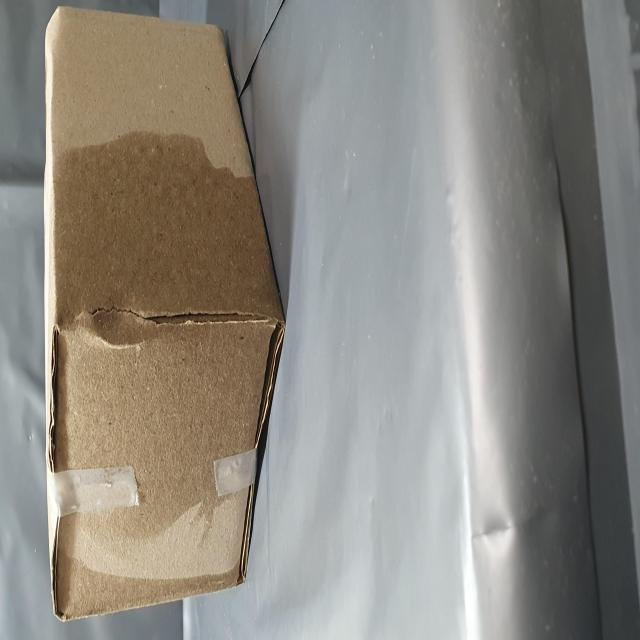wet: (98, 96, 288, 494), (12, 99, 77, 374)
